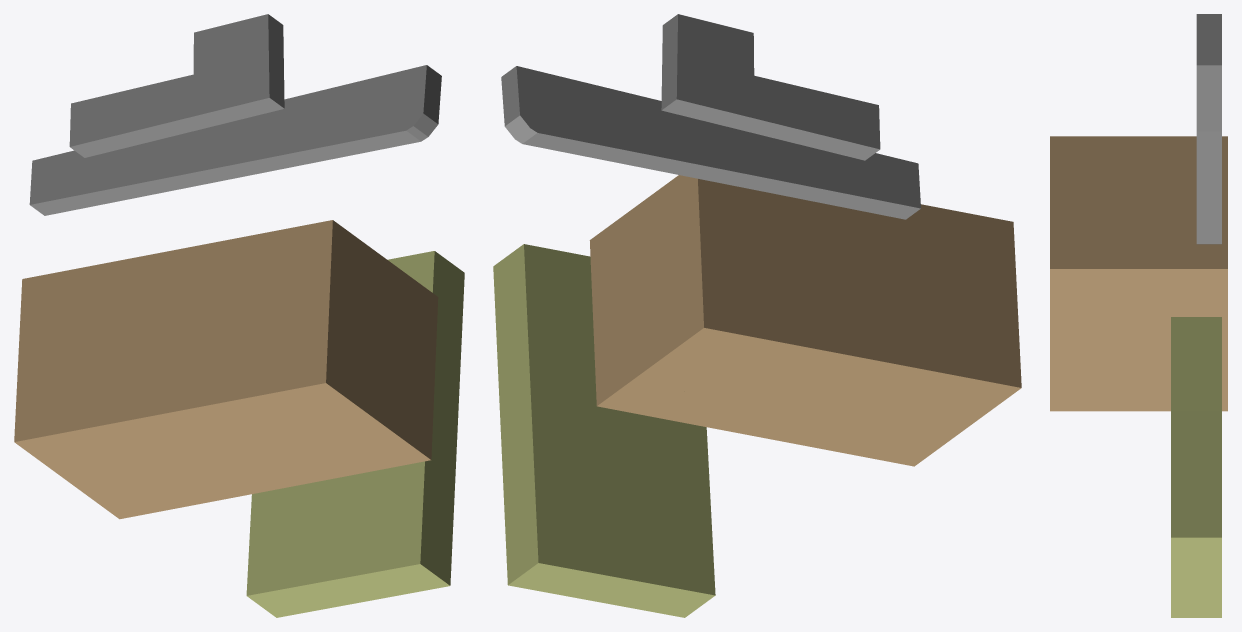
3 renders of one model, left to right at view 1: azimuth 30°, elevation 25°; view 2: azimuth 150°, elevation 25°; view 3: azimuth 270°, elevation 25°, orthographic. The views are drawn at different scales.
Visible parts, largest first — view 1: 0_0_3_2_0_1_0_0; view 2: 0_0_3_2_0_1_0_0; view 3: 0_0_3_2_0_1_0_0.
Boxes of the visible parts, x1,y1,x2,y2 form: 0_0_3_2_0_1_0_0: [14, 14, 464, 617]; 0_0_3_2_0_1_0_0: [493, 14, 1021, 617]; 0_0_3_2_0_1_0_0: [1050, 14, 1227, 617].
Bounding box in the file's own units: 47.98 × 64.55 × 21.
